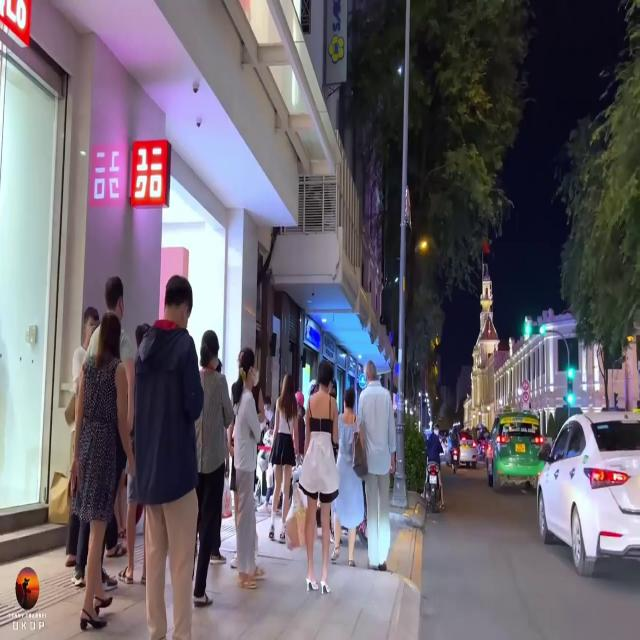bien_vang: (514, 442, 526, 452)
